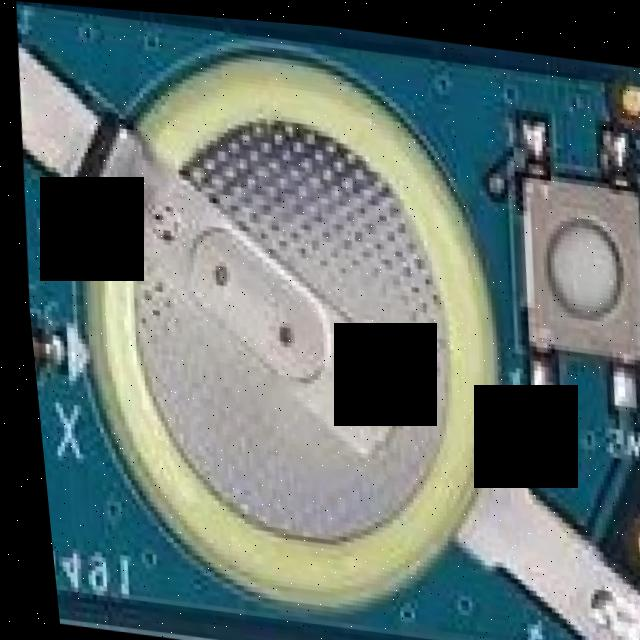2235: (491, 102, 640, 412)
battery: (23, 14, 519, 634)
